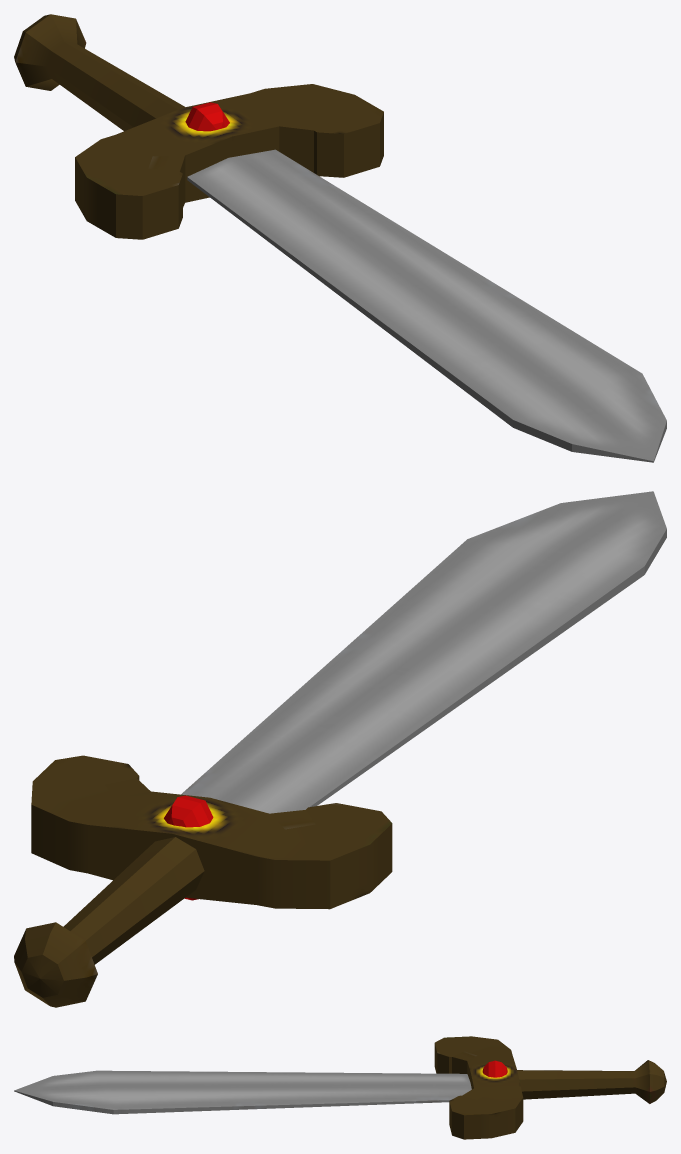
Rendered from sword.fbx.
3 renders of one model, top to bottom at view 1: azimuth 30°, elevation 25°; view 2: azimuth 150°, elevation 25°; view 3: azimuth 270°, elevation 25°, orthographic. The views are drawn at different scales.
Parts seen in each view (by area): view 1: Characterskibinded:character:Charactermodel:sword4; view 2: Characterskibinded:character:Charactermodel:sword4; view 3: Characterskibinded:character:Charactermodel:sword4.
Part boxes in pixels (left/top/right/bottom): Characterskibinded:character:Charactermodel:sword4: left=14, top=14, right=666, bottom=462; Characterskibinded:character:Charactermodel:sword4: left=14, top=491, right=666, bottom=1007; Characterskibinded:character:Charactermodel:sword4: left=14, top=1036, right=666, bottom=1139.
Bounding box in the file's own units: 2.1 × 0.5961 × 7.33.
